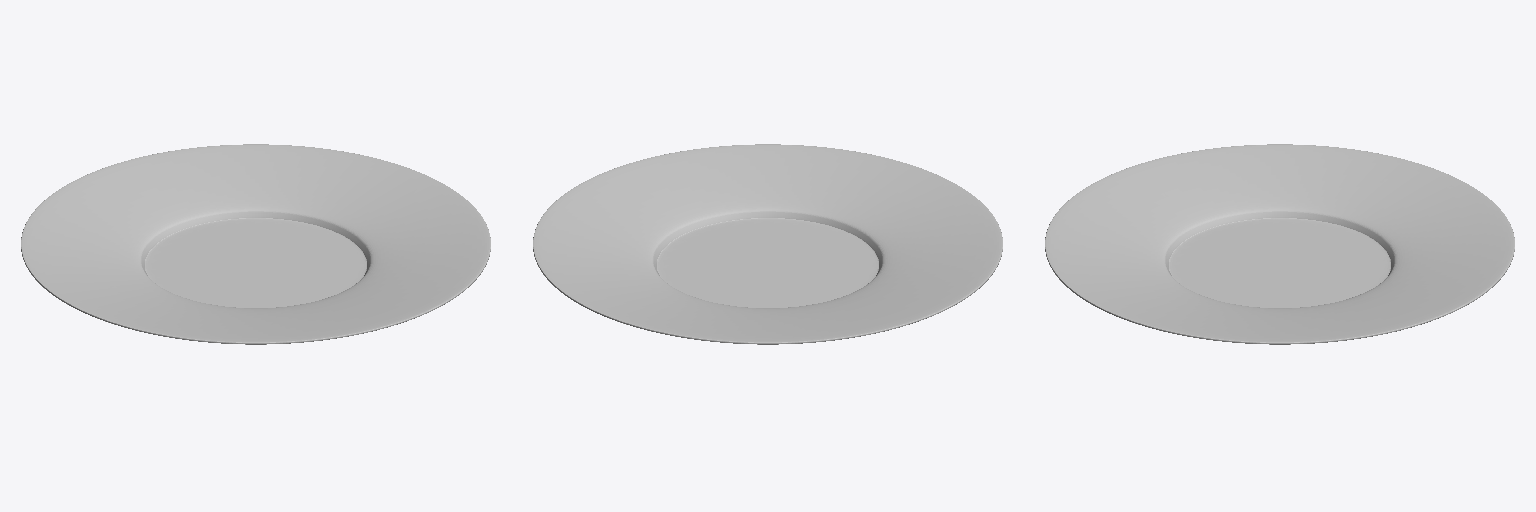
File: Small_Plate.obj
3 views of the same model, side by side, from view 1: azimuth 30°, elevation 25°; view 2: azimuth 150°, elevation 25°; view 3: azimuth 270°, elevation 25° (orthographic).
Parts seen in each view (by area): view 1: Small_Plate_Circle.008; view 2: Small_Plate_Circle.008; view 3: Small_Plate_Circle.008.
Part boxes in pixels (x1,y1,x2,y2): Small_Plate_Circle.008: (21,144,490,344); Small_Plate_Circle.008: (533,144,1002,344); Small_Plate_Circle.008: (1045,144,1514,344).
Bounding box in the file's own units: 0.3252 × 0.0191 × 0.3252.